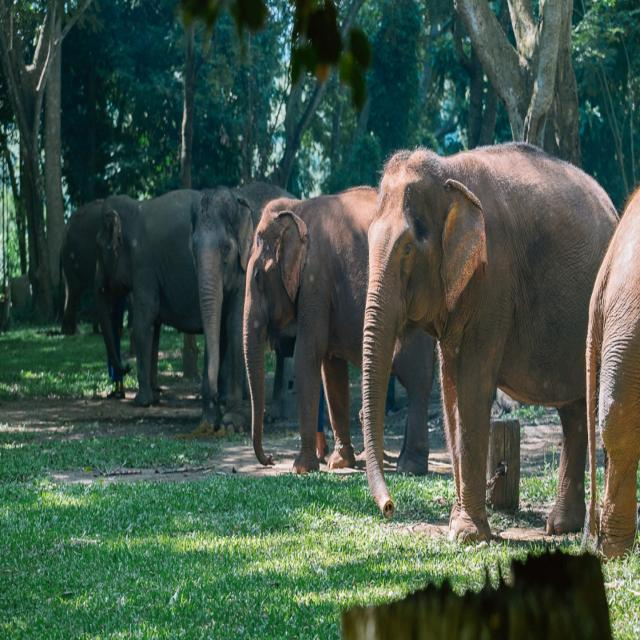Elephant: (361, 96, 635, 599), (241, 133, 383, 488), (40, 163, 192, 430), (190, 143, 253, 442)
